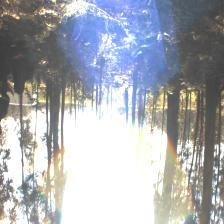trunktrack_idkeyframe: (202, 81, 219, 200), (162, 90, 180, 193), (50, 80, 60, 145), (132, 71, 138, 122), (61, 79, 66, 132), (125, 89, 128, 118)
